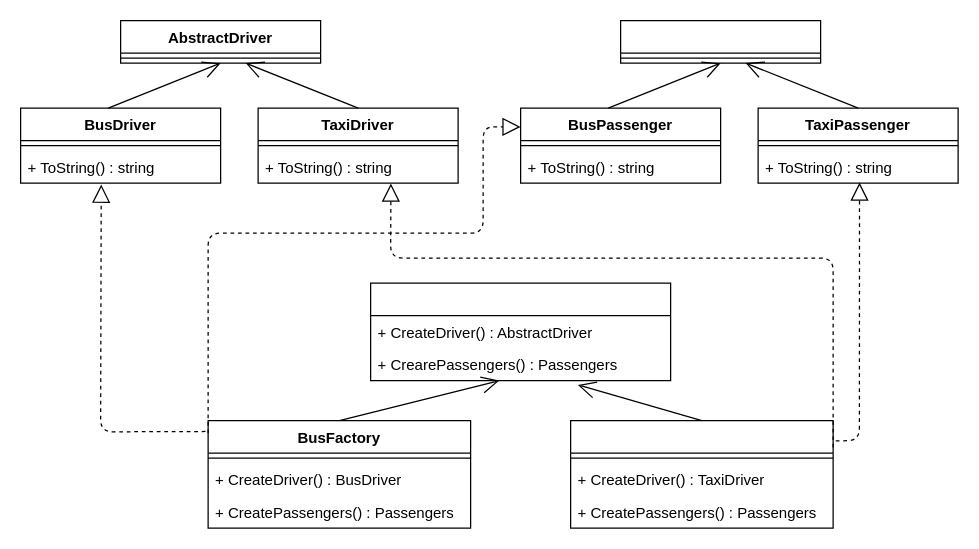
This 979x549 diagram has some shape labels left out. Each missing label, with the box of its shape:
AbstactPassenger: (619, 19, 821, 63)
Interface "IFactory": (369, 282, 671, 381)
TaxiFactory: (569, 419, 833, 528)
